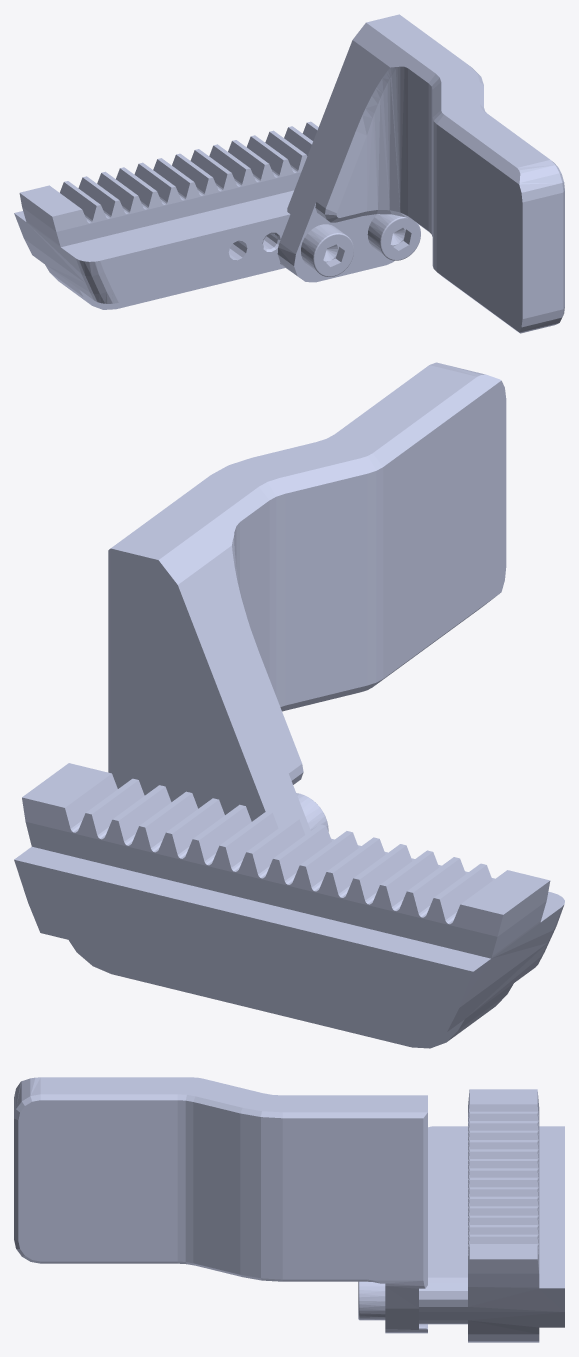
The model's file is robotiq_hande_finger_1.dae.
3 views of the same model, one above another, from view 1: azimuth 30°, elevation 25°; view 2: azimuth 150°, elevation 25°; view 3: azimuth 270°, elevation 25° (orthographic). The views are drawn at different scales.
Parts seen in each view (by area): view 1: node; view 2: node; view 3: node.
Part boxes in pixels (left/top/right/bottom): node: left=14, top=14, right=564, bottom=333; node: left=14, top=362, right=564, bottom=1048; node: left=14, top=1077, right=564, bottom=1342.
Bounding box in the file's own units: 45.2 × 31.44 × 61.9.
